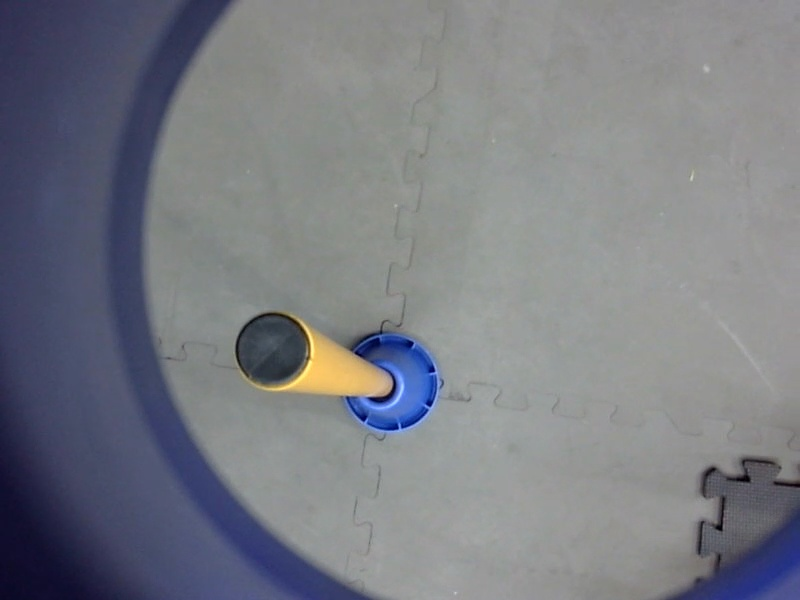tip: (226, 302, 320, 397)
